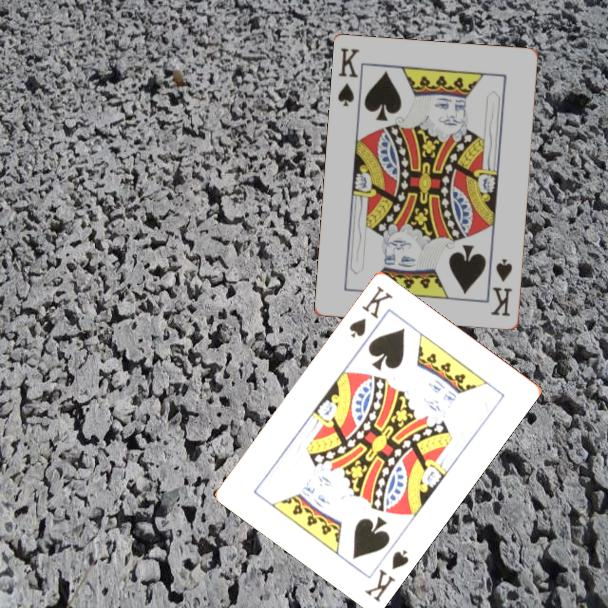s13: (345, 282, 396, 341), (361, 546, 412, 605), (488, 256, 516, 319), (335, 45, 362, 110)
